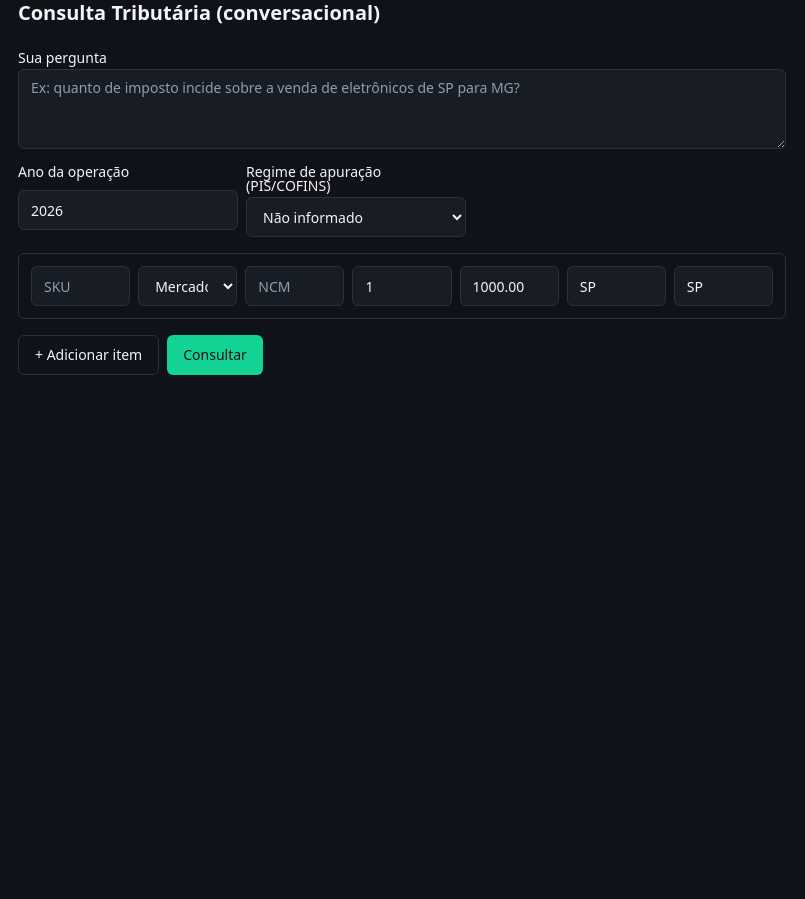
it: ConsultaPage › happy path exibe o parecer e o histórico
The width and height of the screenshot is (805, 899).
Step 1. Type "teste" into the text box labelled "Sua pergunta" → (402,109), box [18,69,786,149]
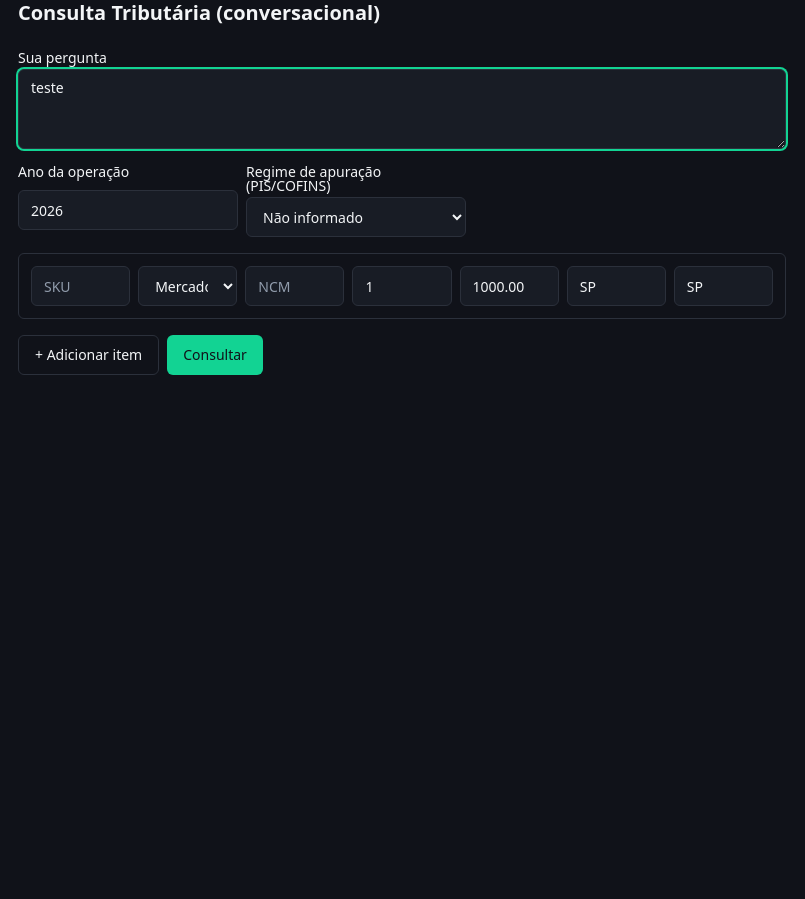
Step 2. Click the button "Consultar" → (215,355), box [167,335,263,375]
(page scrolled)
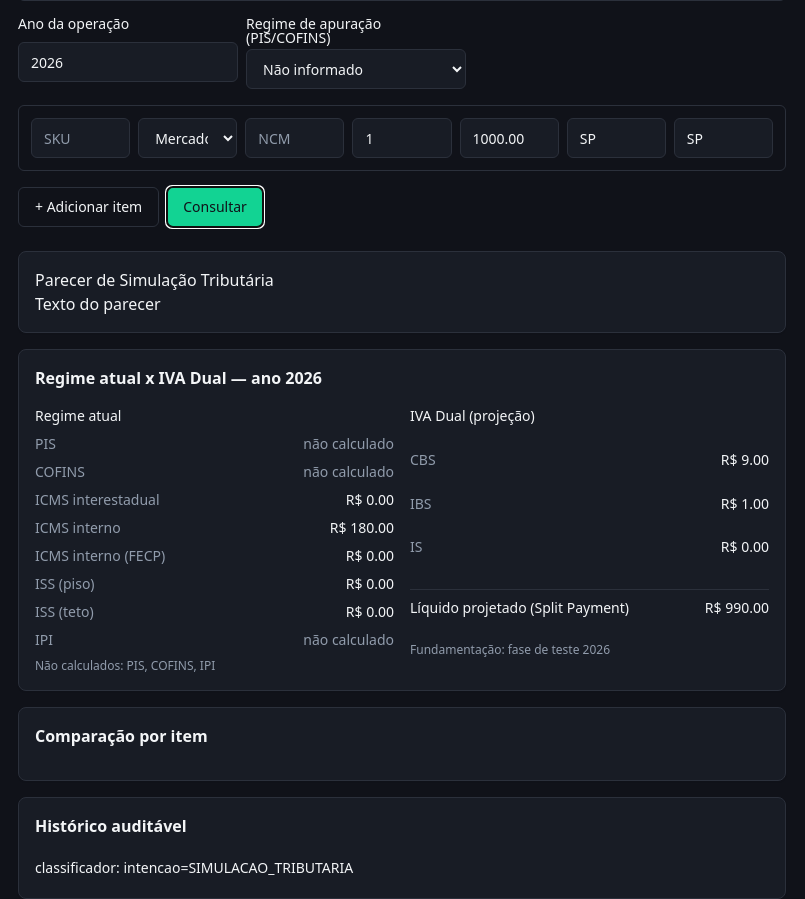
Result: the text "Texto do parecer" is shown at [35,293,161,315]
Result: the text "classificador" is shown at [35,858,116,877]
